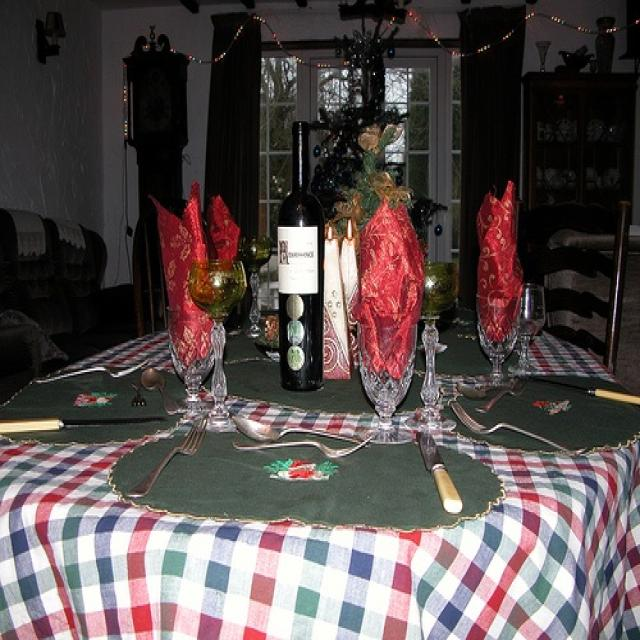bottle: (277, 119, 325, 391)
chair: (521, 198, 634, 375)
diningtable: (0, 297, 636, 638)
sofa: (0, 208, 141, 405)
